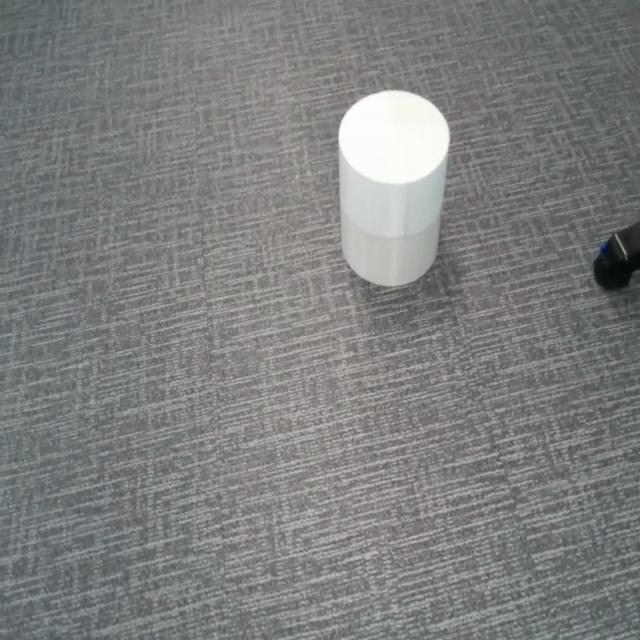cylinder: (338, 89, 450, 286)
